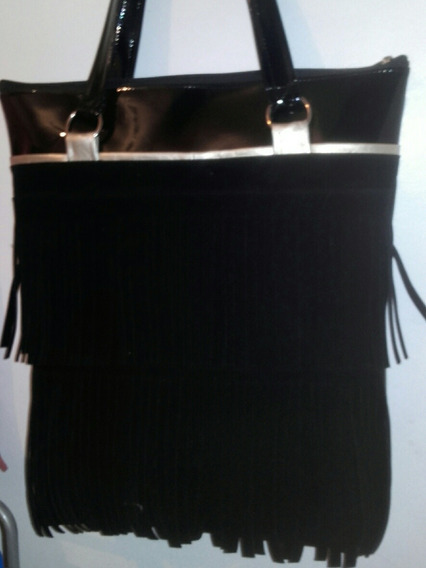cartera: (12, 1, 411, 560)
